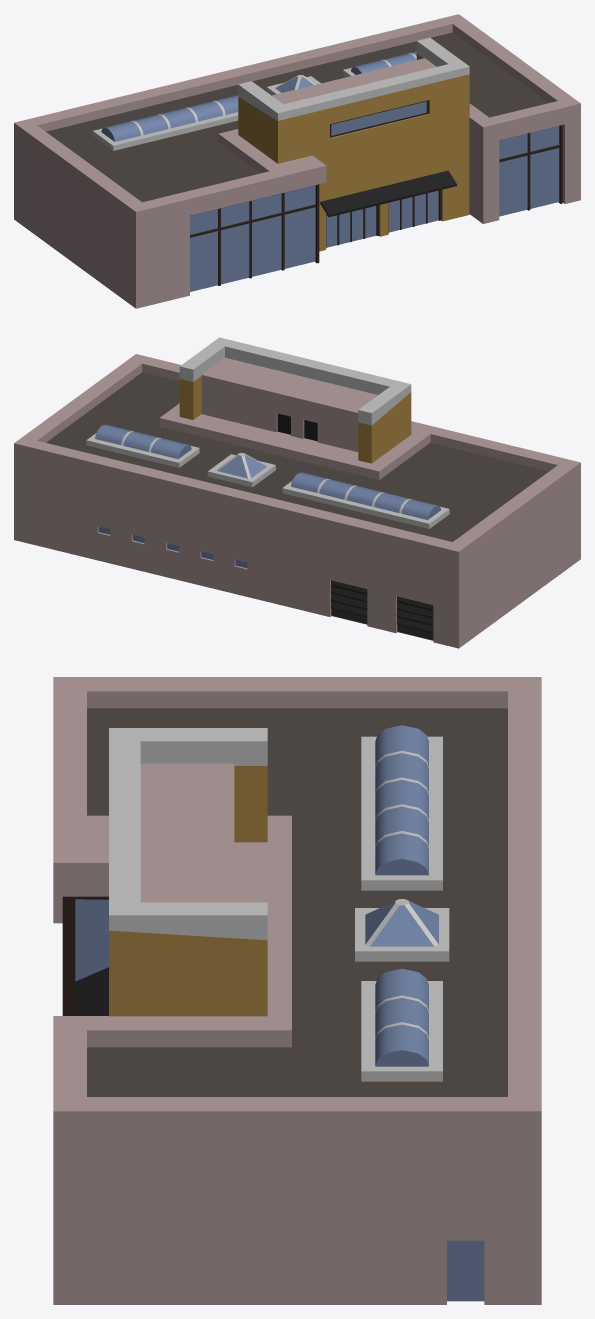
File: Supermarket_01.fbx
The picture shows the model from 3 angles, top to bottom: view 1: azimuth 30°, elevation 25°; view 2: azimuth 150°, elevation 25°; view 3: azimuth 270°, elevation 25°; orthographic projection. The views are drawn at different scales.
Parts seen in each view (by area): view 1: Supermarket_01; view 2: Supermarket_01; view 3: Supermarket_01.
Boxes of the visible parts, x1=… form: Supermarket_01: x1=14, y1=14, x2=580, y2=308; Supermarket_01: x1=14, y1=337, x2=580, y2=648; Supermarket_01: x1=53, y1=677, x2=541, y2=1304.
Size of the model in its own units: 34.49 by 10.99 by 16.39.
